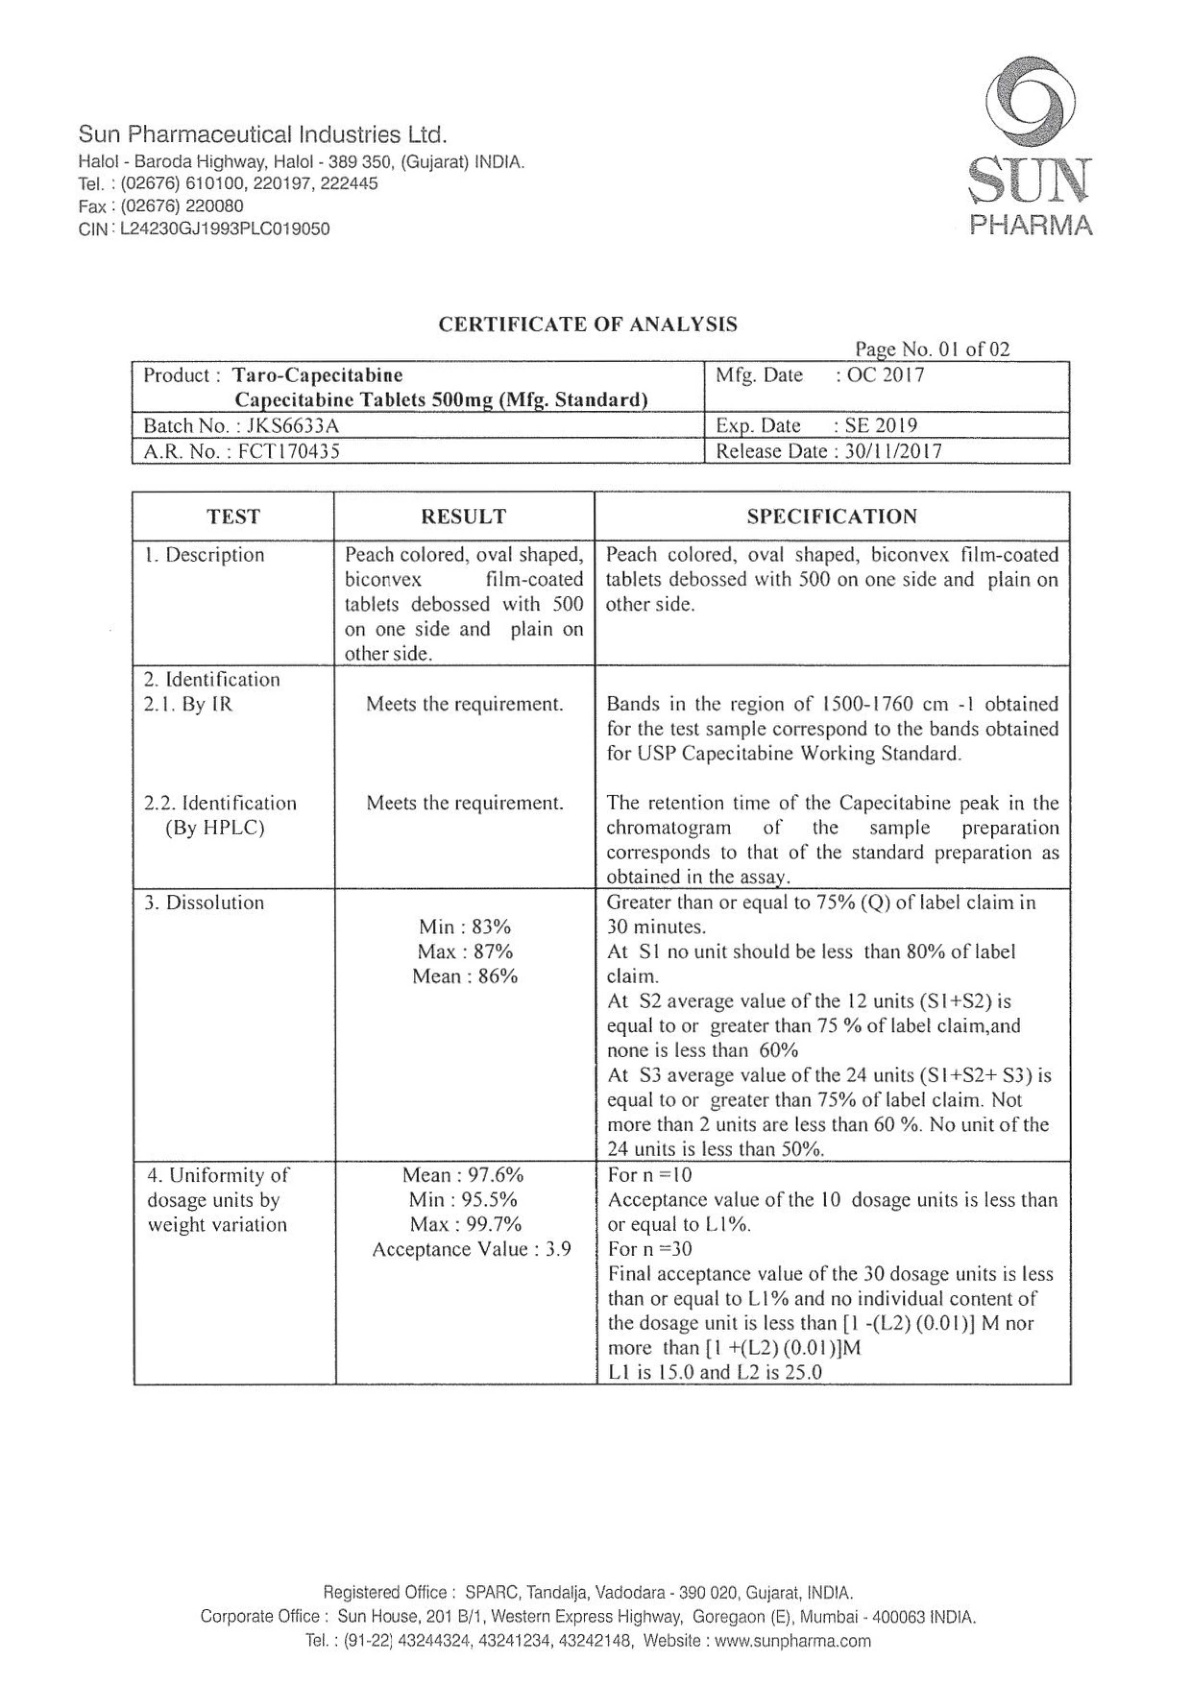full_lined: (130, 490, 1072, 1387), (131, 358, 1071, 465)
